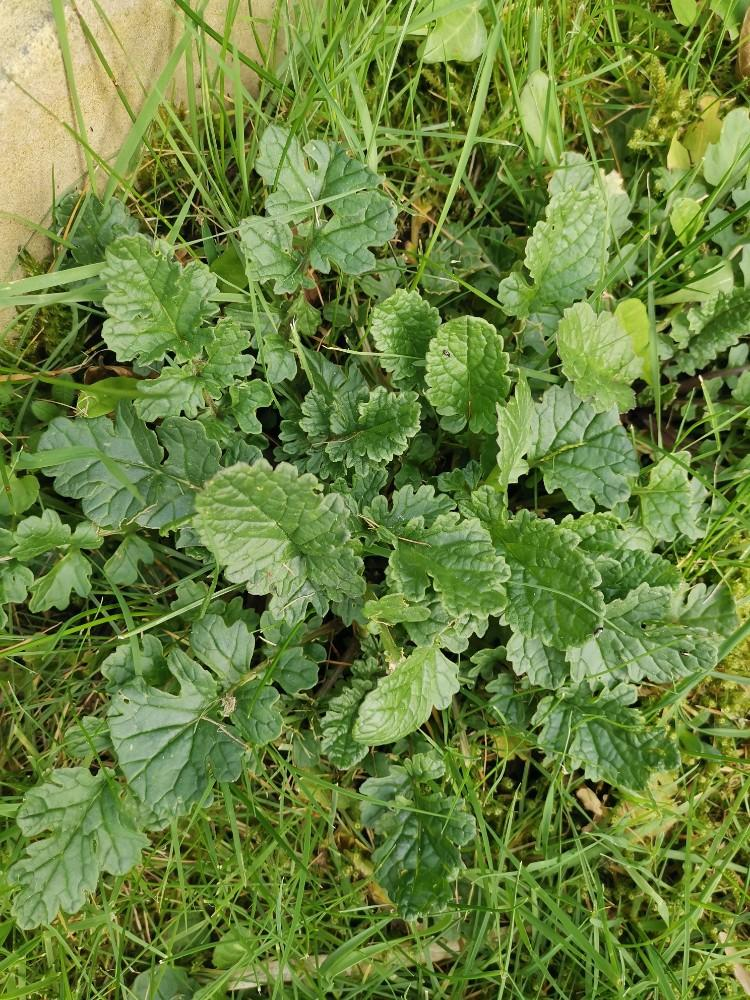Jacobaea vulgaris: (0, 117, 734, 943)
